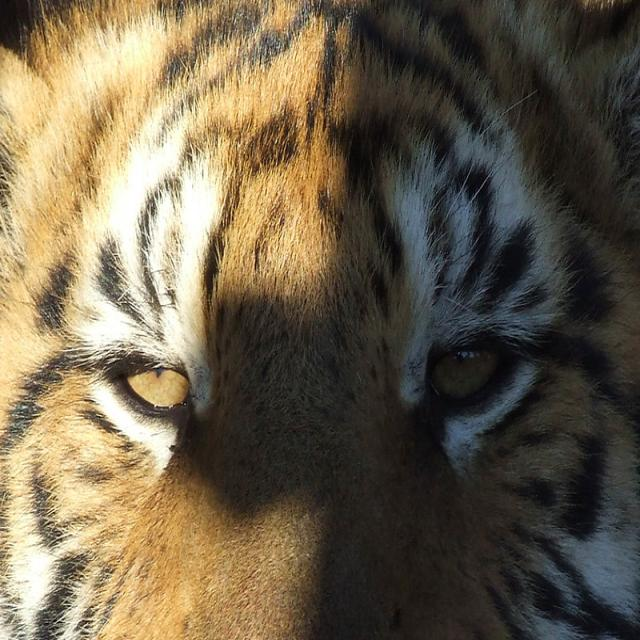Tiger: (2, 1, 638, 636)
